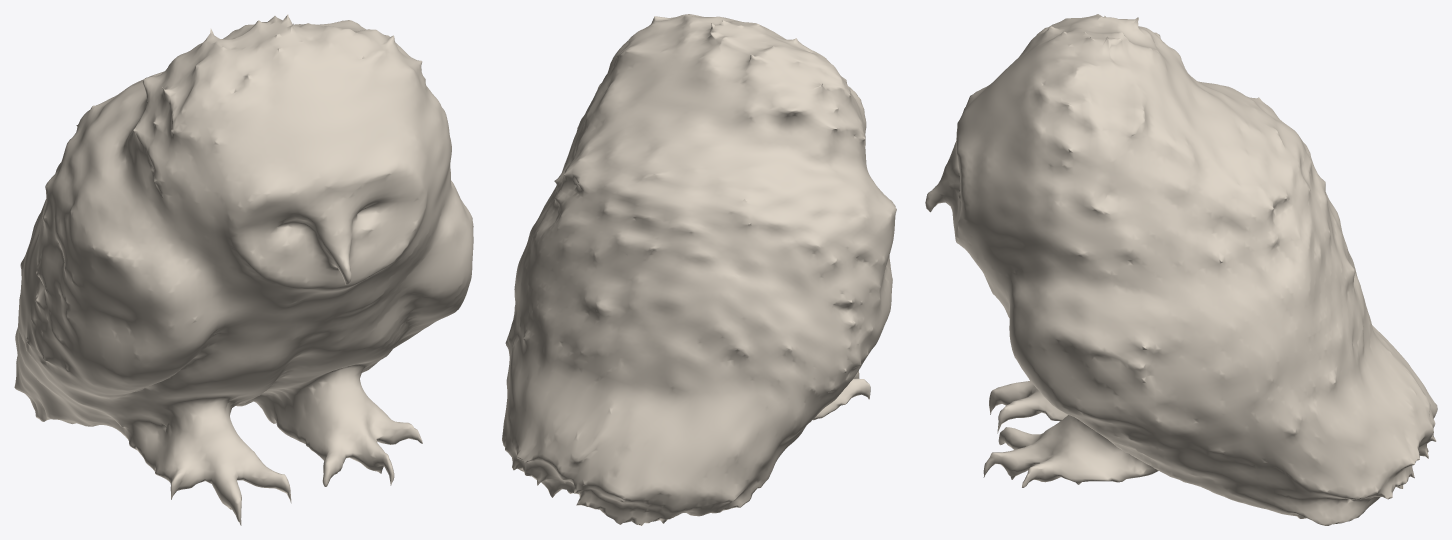
File: warped-ART_UNAPPROVED.glb
3 views of the same model, side by side, from view 1: azimuth 30°, elevation 25°; view 2: azimuth 150°, elevation 25°; view 3: azimuth 270°, elevation 25° (orthographic). The views are drawn at different scales.
Visible parts, largest first — view 1: run100_voxel_55k_REAL_NEURAL_SOURCE; view 2: run100_voxel_55k_REAL_NEURAL_SOURCE; view 3: run100_voxel_55k_REAL_NEURAL_SOURCE.
Part boxes in pixels (<box>): run100_voxel_55k_REAL_NEURAL_SOURCE: <box>14,14,473,525</box>; run100_voxel_55k_REAL_NEURAL_SOURCE: <box>502,14,896,525</box>; run100_voxel_55k_REAL_NEURAL_SOURCE: <box>925,14,1437,525</box>.
Size of the model in its own units: 1.6 by 1.83 by 1.91.
